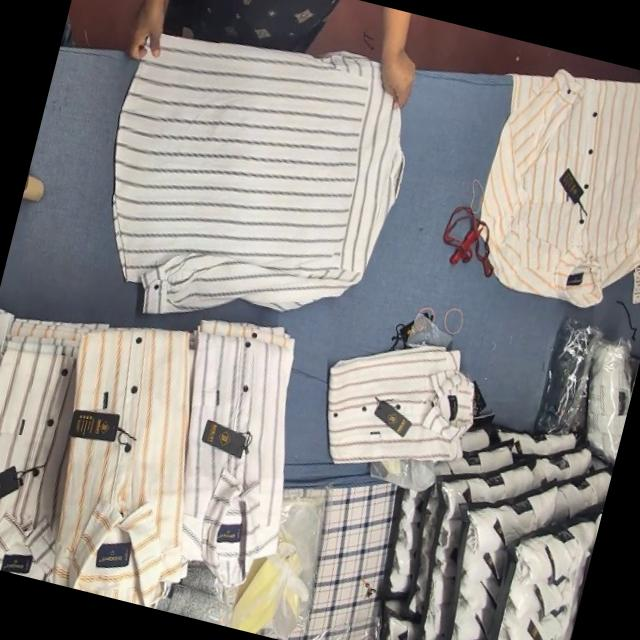new-garment: (113, 35, 403, 311)
